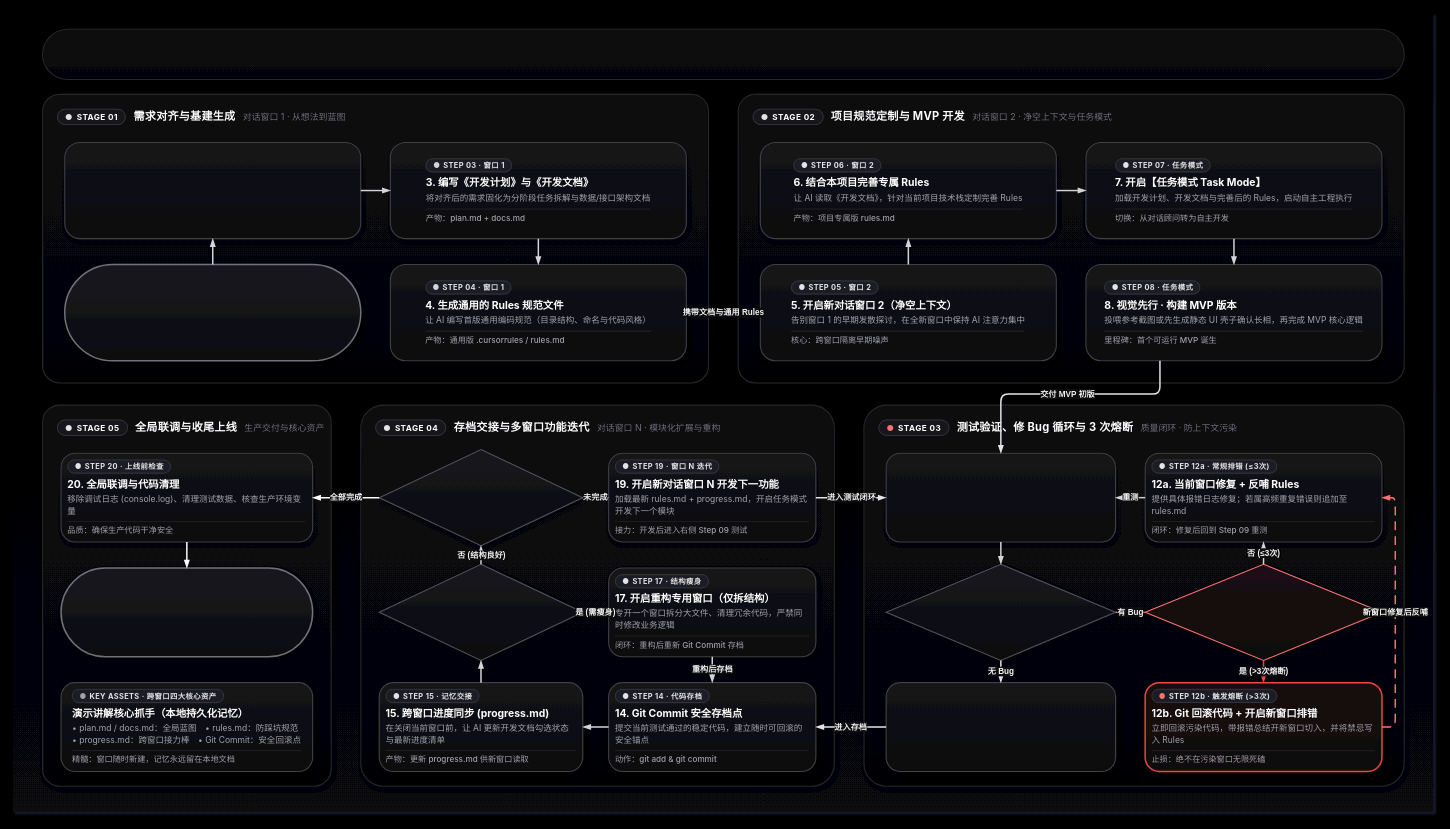
This 1450x829 diagram has some shape labels left out. The shapes that lost their labels are listed below. From the top down, each one's centre as x and y in pixels, then its label:
At (x=724, y=55): "Vibe Coding 全链路实战开发流程图 多窗口上下文隔离 · Rules 动态驱动 · 3 次熔断闭环".
At (x=213, y=191): "● STEP 02 · 窗口 1 2. 锁定主流成熟技术栈 要求 AI 选择社区语料最丰富的主流框架并固定依赖版本 避坑：防止冷门库与新版 API 幻觉".
At (x=213, y=313): "● STEP 01 · 起点 (窗口 1) 1. 开启窗口 1：聊透产品形态 与 AI 探讨核心需求、目标用户与交互形态，对齐开发预期 产出：清晰的产品需求边界".
At (x=481, y=498): "◆ STEP 18 · 完成度判断 18. 计划中的后续功能 是否全部完成？ 继续迭代 vs 收尾上线".
At (x=1001, y=498): "● STEP 09 · 验证闭环 9. 运行预览与交互功能测试 实机或浏览器运行预览，检查页面交互与控制台报错信息 输入：MVP 或新开发的功能模块".
At (x=187, y=613): "● STEP 21 · 终点 (正式交付) 21. 打包构建与部署上线 执行构建编译检查，一键发布至生产环境，完成全流程闭环交付 终点：产品正式上线运行".
At (x=481, y=613): "◆ STEP 16 · 重构判断 16. 单文件是否过长 或已迭代 2~3 个功能？ 检查代码健康度".
At (x=1001, y=613): "◆ STEP 10 · 判断 10. 是否存在 Bug 或交互偏差？ 测试通过 vs 进入排错".
At (x=1264, y=613): "◆ STEP 11 · 熔断判断 11. 同一 Bug 连续修复 是否超过 3 次？ >3次说明上下文已污染".
At (x=1001, y=728): "● STEP 13 · 验证通过 13. 当前版本验证通过（稳定） 跳出修 Bug 循环，准备锁定代码快照并同步项目进度 状态：当前功能模块 100% 可用".
